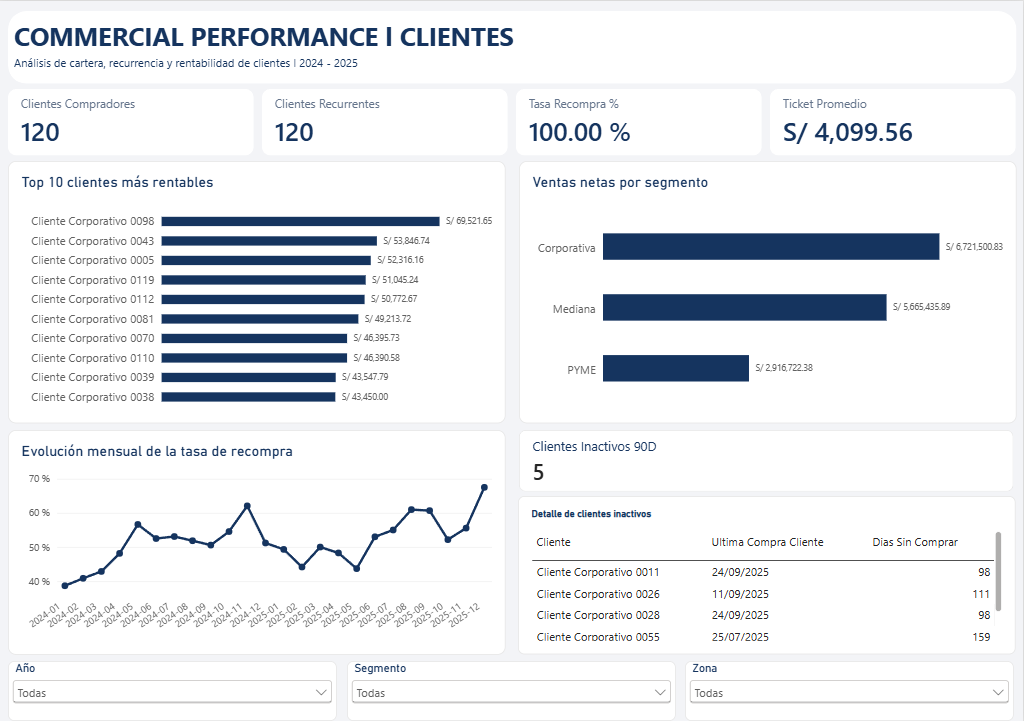

Layout of this report page (visuals, bound fields, positions):
{"tool":"powerbi","page":{"name":"Clientes","canvas":[1280,900],"ordinal":3},"visuals":[{"type":"shape","box":[11.6,12.6,1260.7,90.9],"z":0},{"type":"cardVisual","fields":{"Data":["FactVentas.Clientes Compradores"]},"box":[11.6,110.3,307.6,83.2],"z":0,"group":"g1"},{"type":"lineChart","title":"Evolución mensual de la tasa de recompra","fields":{"Category":["DimMes.AñoMes"],"Y":["FactVentas.Tasa Recompra %"]},"box":[11.1,536.5,621.6,281.3],"z":0,"group":"g3"},{"type":"textbox","box":[19.3,67.7,614.4,23.2],"z":1000},{"type":"cardVisual","fields":{"Data":["FactVentas.Clientes Recurrentes"]},"box":[328.8,110.3,307.6,83.2],"z":1000,"group":"g1"},{"type":"clusteredBarChart","title":"Top 10 clientes más rentables","fields":{"Category":["DimClientes.cliente_nombre"],"Y":["FactVentas.Margen Bruto"]},"box":[11.1,200.6,622.4,328.1],"z":1000,"group":"g2"},{"type":"tableEx","title":"Detalle de clientes inactivos","fields":{"Values":["DimClientes.cliente_nombre","FactVentas.Ultima Compra Cliente","FactVentas.Dias Sin Comprar"]},"box":[648.3,619.1,621.8,198.4],"z":1000,"group":"g3"},{"type":"textbox","box":[19.3,21.3,925.9,46.4],"z":2000},{"type":"cardVisual","fields":{"Data":["FactVentas.Tasa Recompra %"]},"box":[646,110.3,307.6,83.2],"z":2000,"group":"g1"},{"type":"group","id":"g1","title":"Grupo 1","box":[11.6,110.3,1260.7,83.2],"z":3000},{"type":"cardVisual","fields":{"Data":["FactVentas.Ticket Promedio"]},"box":[964.6,110.3,307.6,83.2],"z":3000,"group":"g1"},{"type":"group","id":"g2","title":"Grupo 2","box":[11.1,200.6,1261.3,328.1],"z":4000},{"type":"clusteredBarChart","title":"Ventas netas por segmento","fields":{"Category":["DimClientes.segmento"],"Y":["FactVentas.Ventas Netas"]},"box":[650,200.6,622.4,328.1],"z":4001,"group":"g2"},{"type":"group","id":"g3","title":"Grupo 3","box":[11.1,536.5,1259,281.3],"z":5000},{"type":"slicer","fields":{"Values":["DimMes.Año"]},"box":[11.1,824.6,410.6,75.4],"z":6000,"group":"g4"},{"type":"cardVisual","fields":{"Data":["FactVentas.Clientes Inactivos 90D"]},"box":[649.5,536.5,618.5,77.6],"z":7001},{"type":"slicer","fields":{"Values":["DimClientes.segmento"]},"box":[434.9,824.6,410.6,75.4],"z":7002,"group":"g4"},{"type":"slicer","fields":{"Values":["DimClientes.zona"]},"box":[857.4,824.6,410.6,75.4],"z":7003,"group":"g4"},{"type":"group","id":"g4","title":"Grupo 4","box":[11.1,824.6,1256.9,75.4],"z":7004}]}

Visuals, with their boxes in screenshot pixels (x1, y1, x2, y2), scaled from the page's 1280x900 canvas onto the 1024x721 screenshot:
shape: Rect(9, 10, 1018, 83)
cardVisual - FactVentas.Clientes Compradores: Rect(9, 88, 255, 155)
"Evolución mensual de la tasa de recompra" lineChart: Rect(9, 430, 506, 655)
textbox: Rect(15, 54, 507, 73)
cardVisual - FactVentas.Clientes Recurrentes: Rect(263, 88, 509, 155)
"Top 10 clientes más rentables" clusteredBarChart: Rect(9, 161, 507, 424)
"Detalle de clientes inactivos" tableEx: Rect(519, 496, 1016, 655)
textbox: Rect(15, 17, 756, 54)
cardVisual - FactVentas.Tasa Recompra %: Rect(517, 88, 763, 155)
"Grupo 1" group: Rect(9, 88, 1018, 155)
cardVisual - FactVentas.Ticket Promedio: Rect(772, 88, 1018, 155)
"Grupo 2" group: Rect(9, 161, 1018, 424)
"Ventas netas por segmento" clusteredBarChart: Rect(520, 161, 1018, 424)
"Grupo 3" group: Rect(9, 430, 1016, 655)
slicer - DimMes.Año: Rect(9, 661, 337, 720)
cardVisual - FactVentas.Clientes Inactivos 90D: Rect(520, 430, 1014, 492)
slicer - DimClientes.segmento: Rect(348, 661, 676, 720)
slicer - DimClientes.zona: Rect(686, 661, 1014, 720)
"Grupo 4" group: Rect(9, 661, 1014, 720)
